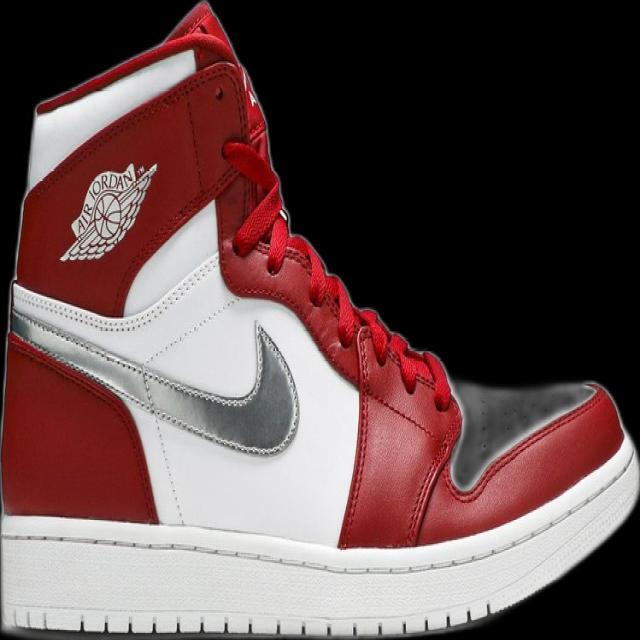J1_InsoleChar: (0, 0, 638, 639)
J1_ShoeLogo: (58, 160, 158, 263)
J1_StitchPattern: (1, 450, 637, 582), (218, 137, 452, 427), (7, 303, 301, 458), (2, 528, 563, 578), (8, 249, 221, 335), (3, 602, 497, 638), (348, 306, 452, 439), (219, 136, 294, 273)
